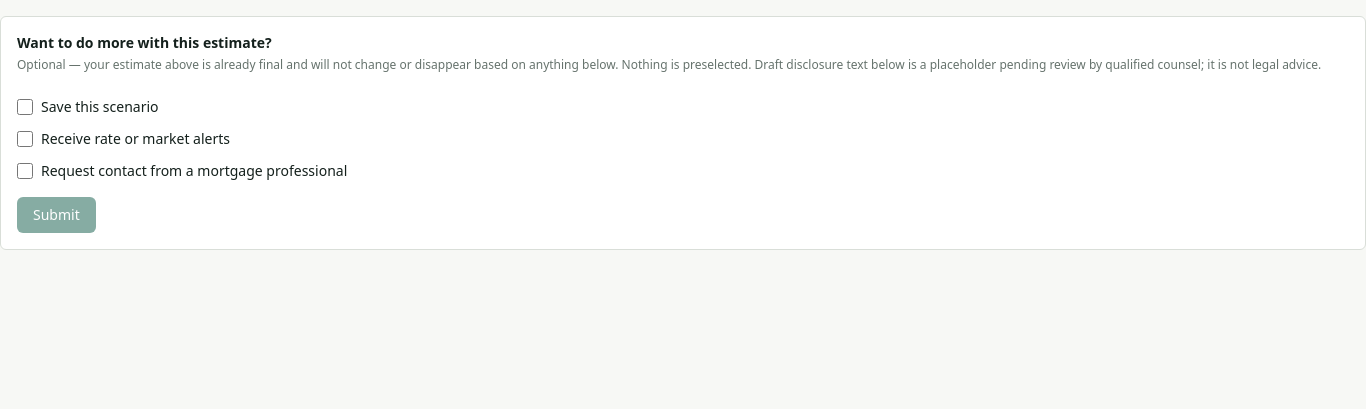
Scenario: LeadCaptureSection › shows contact fields and the matching disclosure text once a purpose is checked
Click the checkbox labelled "Receive rate or market alerts": [25, 139] box [17,131,33,147]
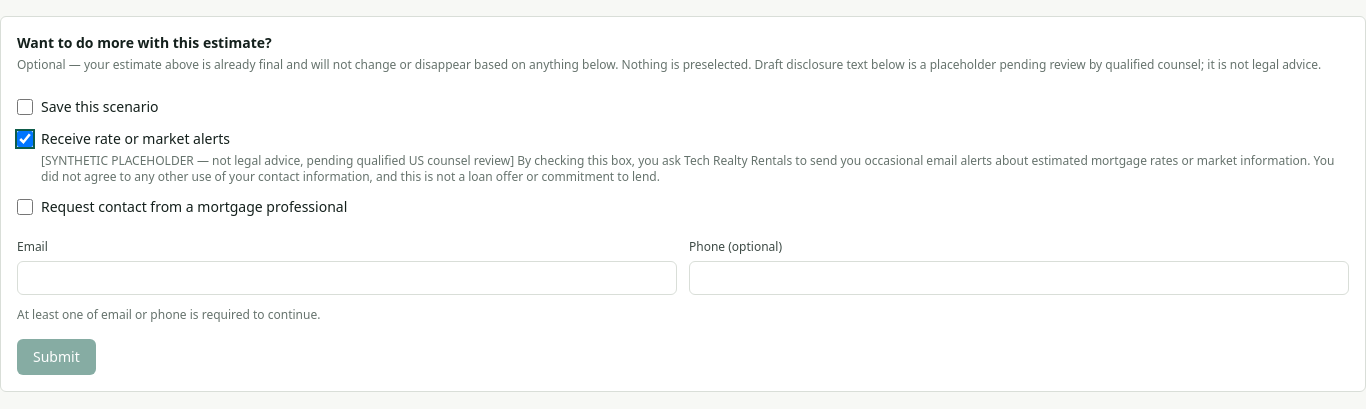
Expected: the text "SYNTHETIC PLACEHOLDER" is shown, [41,152,1334,185]
